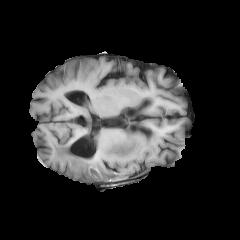glioma: (52, 137, 156, 182)
